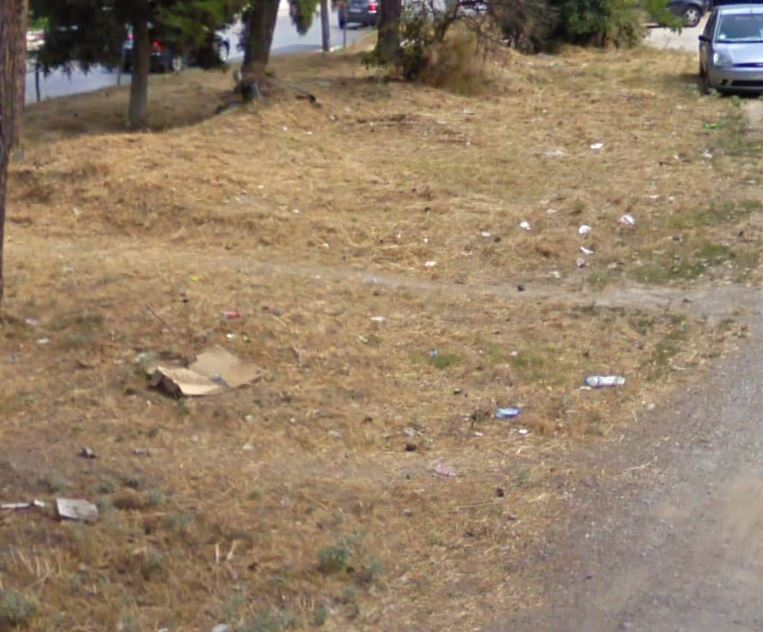trash: (117, 308, 274, 410), (479, 195, 635, 267), (4, 477, 106, 527), (575, 365, 635, 390), (577, 132, 617, 163), (494, 405, 520, 428)
